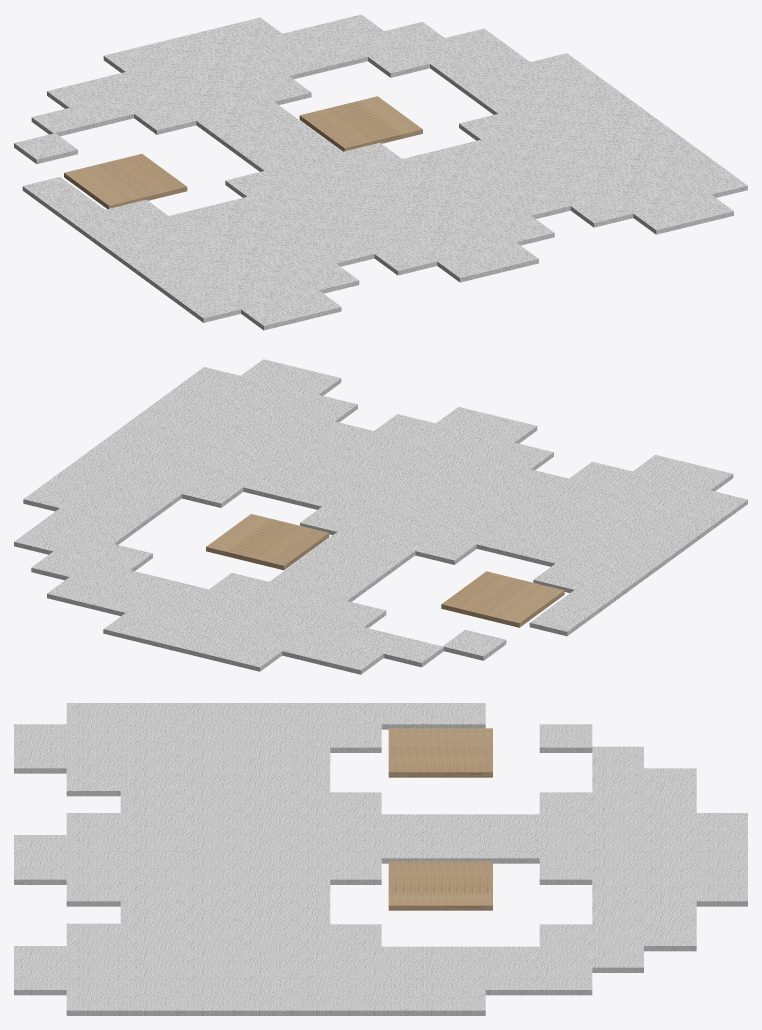
File: fantome 1.fbx
The picture shows the model from 3 angles, top to bottom: view 1: azimuth 30°, elevation 25°; view 2: azimuth 150°, elevation 25°; view 3: azimuth 270°, elevation 25°; orthographic projection. The views are drawn at different scales.
Visible parts, largest first — view 1: Enduit - Blanc nature, Bois - Lamellé-collé; view 2: Enduit - Blanc nature, Bois - Lamellé-collé; view 3: Enduit - Blanc nature, Bois - Lamellé-collé.
Part boxes in pixels (x1=…): Enduit - Blanc nature: x1=14, y1=14, x2=747, y2=330; Bois - Lamellé-collé: x1=64, y1=96, x2=422, y2=208; Enduit - Blanc nature: x1=14, y1=359, x2=747, y2=674; Bois - Lamellé-collé: x1=206, y1=514, x2=564, y2=627; Enduit - Blanc nature: x1=14, y1=703, x2=747, y2=1015; Bois - Lamellé-collé: x1=388, y1=728, x2=492, y2=910.
Bounding box in the file's own units: 762 × 769 × 6.
2 materials, 2 textured.
